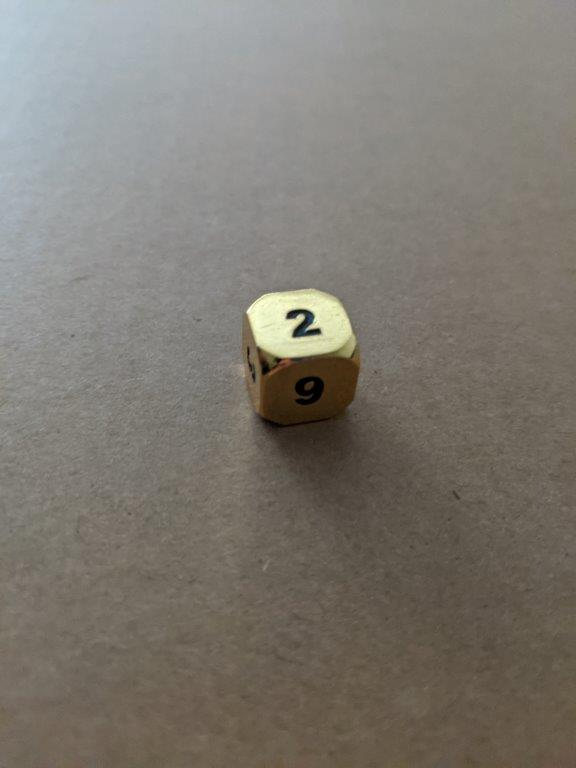d6-2: (244, 285, 361, 429)
